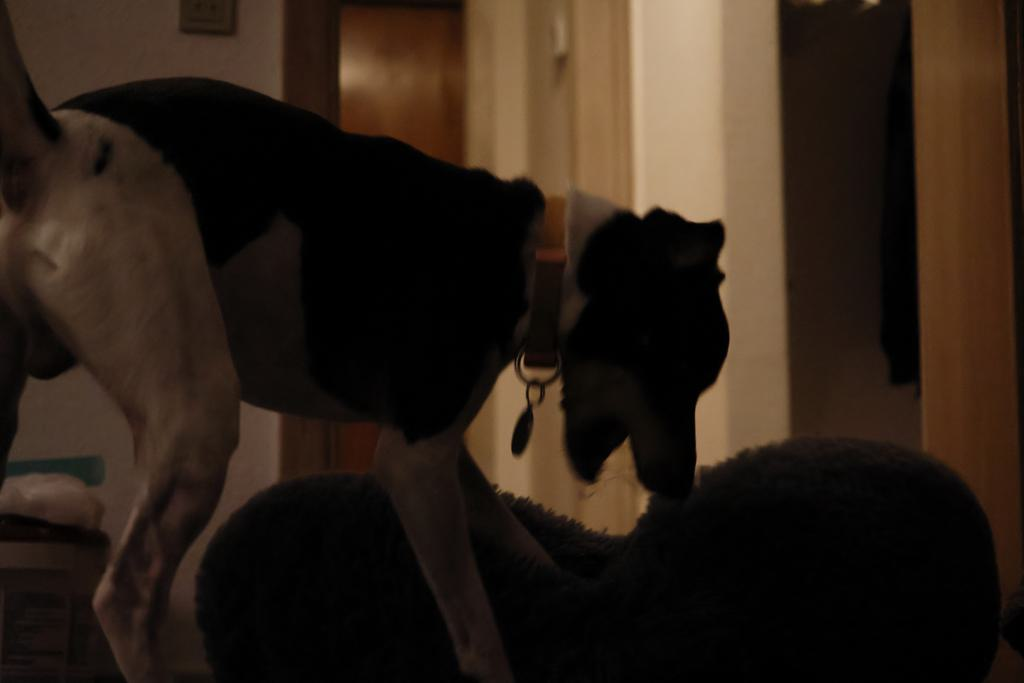Dog: (0, 0, 743, 683)
